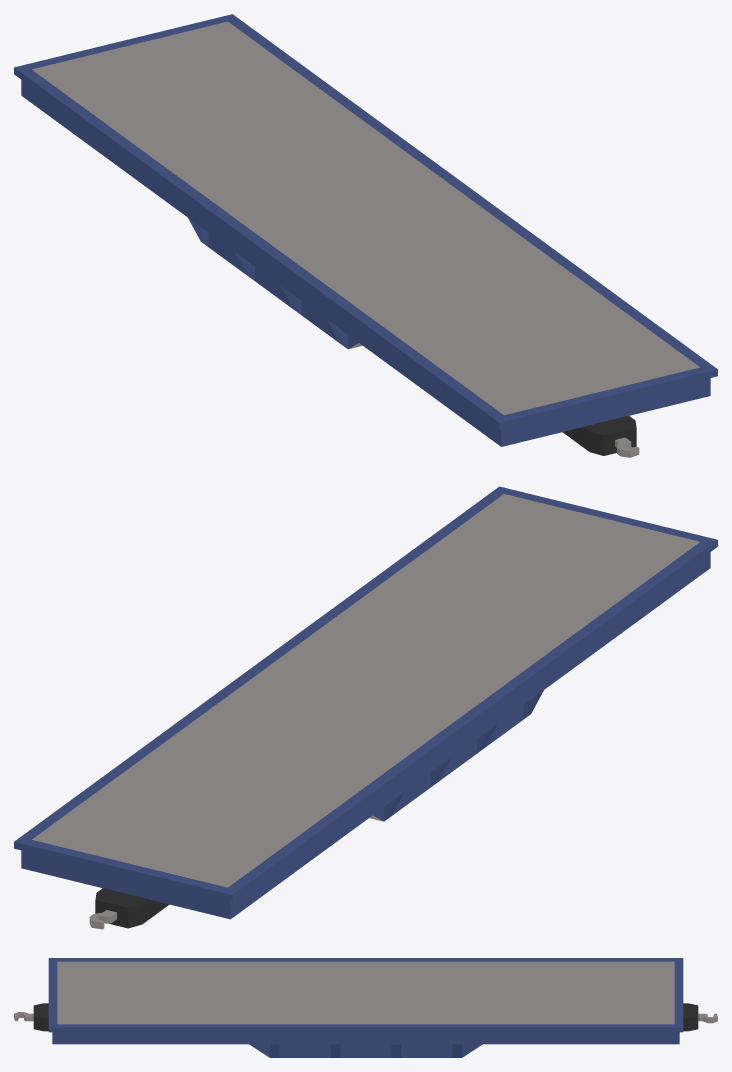
Rendered from train-wagon-cargo-base.glb.
3 views of the same model, one above another, from view 1: azimuth 30°, elevation 25°; view 2: azimuth 150°, elevation 25°; view 3: azimuth 270°, elevation 25° (orthographic). The views are drawn at different scales.
Visible parts, largest first — view 1: train-wagon-cargo-base; view 2: train-wagon-cargo-base; view 3: train-wagon-cargo-base.
Boxes of the visible parts, box(x1,y1,x2,y2) form: train-wagon-cargo-base: box(14, 14, 717, 457); train-wagon-cargo-base: box(14, 486, 717, 929); train-wagon-cargo-base: box(14, 958, 717, 1057).
Bounding box in the file's own units: 3.34 × 0.8 × 14.26.
1 material, 1 textured.
